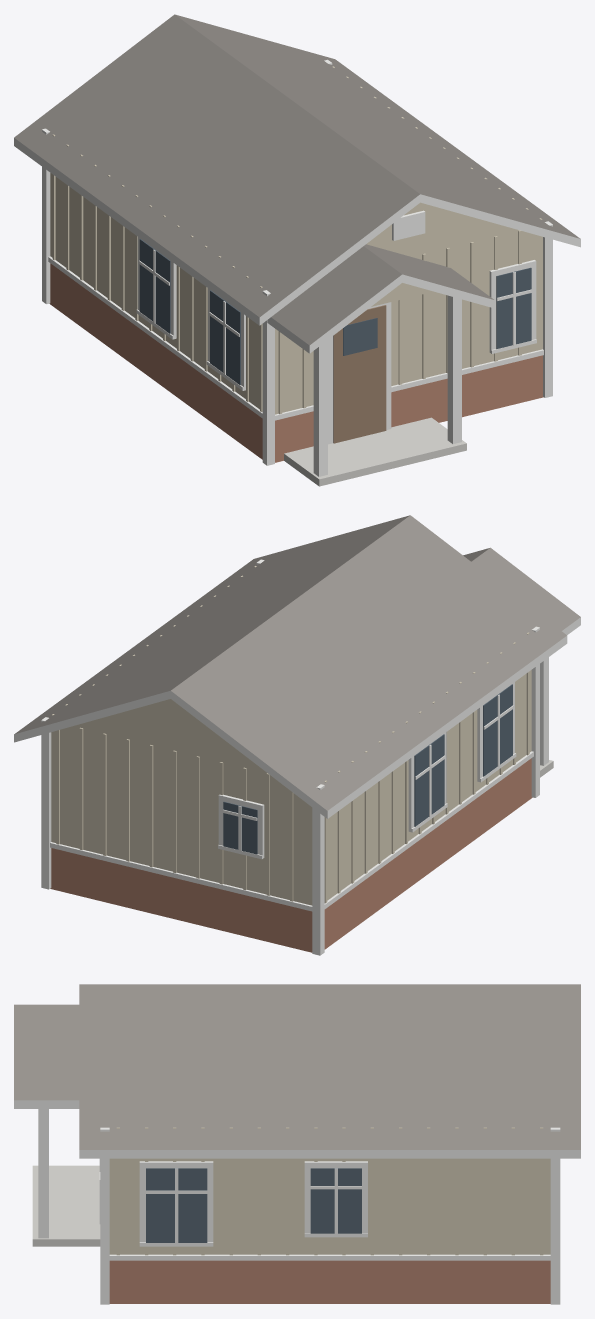
Rendered from apricot-craftsman.glb.
The picture shows the model from 3 angles, top to bottom: view 1: azimuth 30°, elevation 25°; view 2: azimuth 150°, elevation 25°; view 3: azimuth 270°, elevation 25°; orthographic projection. The views are drawn at different scales.
Visible parts, largest first — view 1: The Apricot (craftsman); view 2: The Apricot (craftsman); view 3: The Apricot (craftsman).
Boxes of the visible parts, bbox=[...] form: The Apricot (craftsman): bbox=[14, 14, 580, 486]; The Apricot (craftsman): bbox=[14, 515, 580, 955]; The Apricot (craftsman): bbox=[14, 984, 580, 1304].
Bounding box in the file's own units: 5.64 × 4.11 × 8.44.
